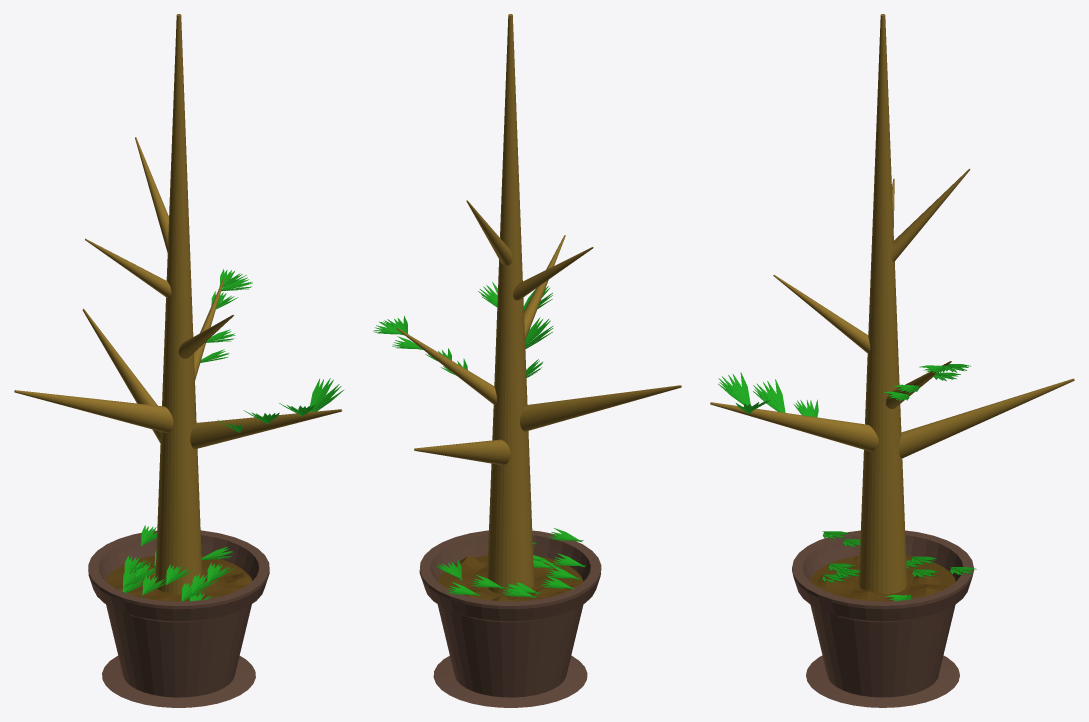
File: Pot Plant 1.2.fbx
3 views of the same model, side by side, from view 1: azimuth 30°, elevation 25°; view 2: azimuth 150°, elevation 25°; view 3: azimuth 270°, elevation 25° (orthographic).
Visible parts, largest first — view 1: Plane.016; view 2: Plane.016; view 3: Plane.016.
Part boxes in pixels (left/top/right/bottom): Plane.016: left=14, top=14, right=344, bottom=707; Plane.016: left=373, top=14, right=681, bottom=707; Plane.016: left=710, top=14, right=1074, bottom=707.
Size of the model in its own units: 407 by 959 by 480.
